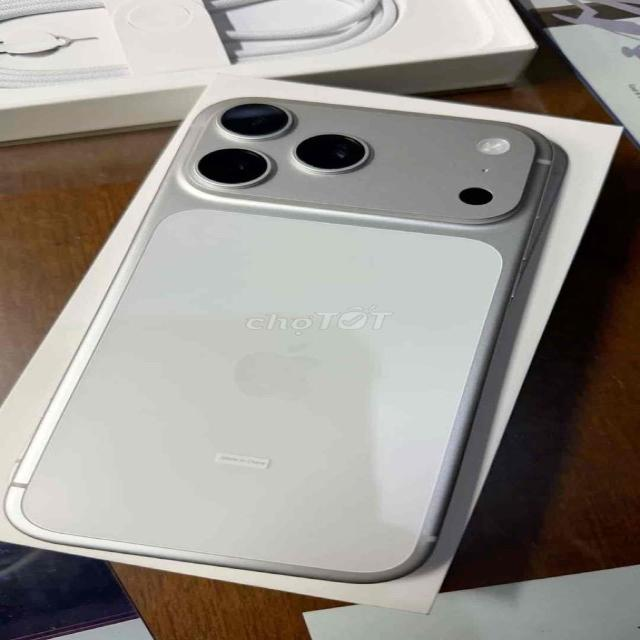gen_17: (15, 75, 577, 593)
